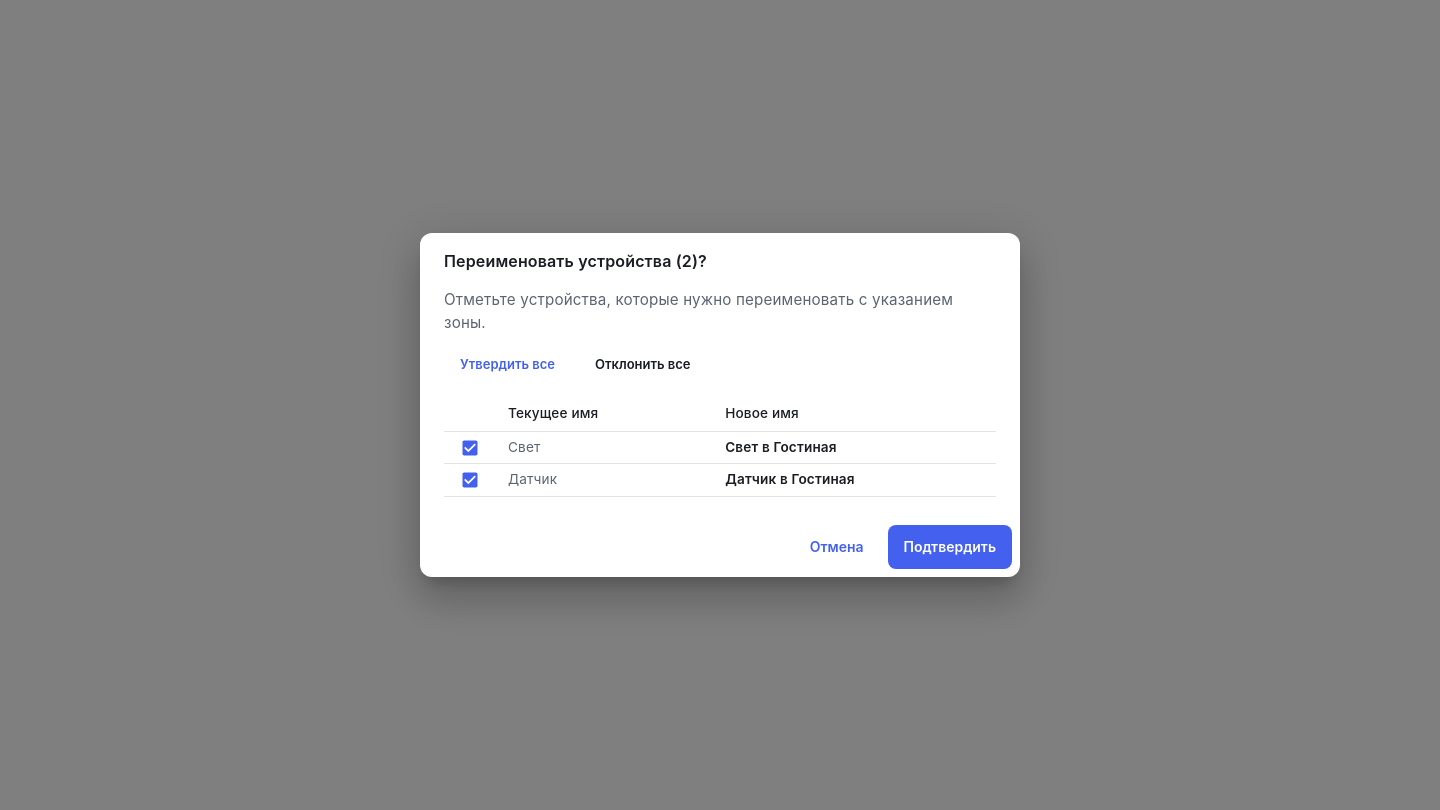
Test: DeviceRenameDialog › renders a table with approve/reject for several devices, and disables confirm when none is approved
Expected: the text "Свет в Гостиная" is shown, [725, 439, 837, 455]
Expected: the text "Датчик в Гостиная" is shown, [725, 471, 855, 487]
Click the button "Отклонить все" at (643, 365), box [579, 343, 707, 387]
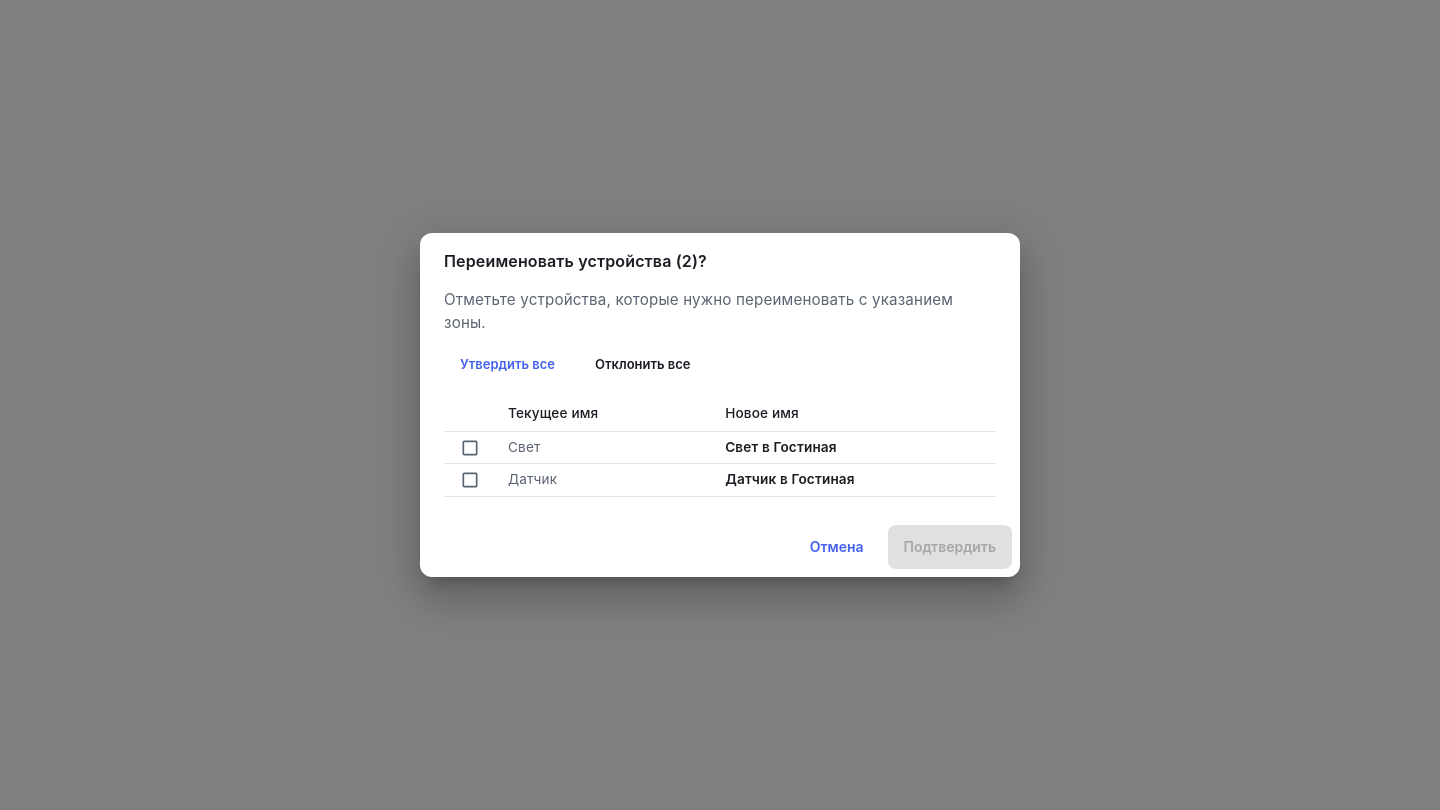
Expected: the button "Подтвердить" is disabled, [888, 525, 1012, 569]
